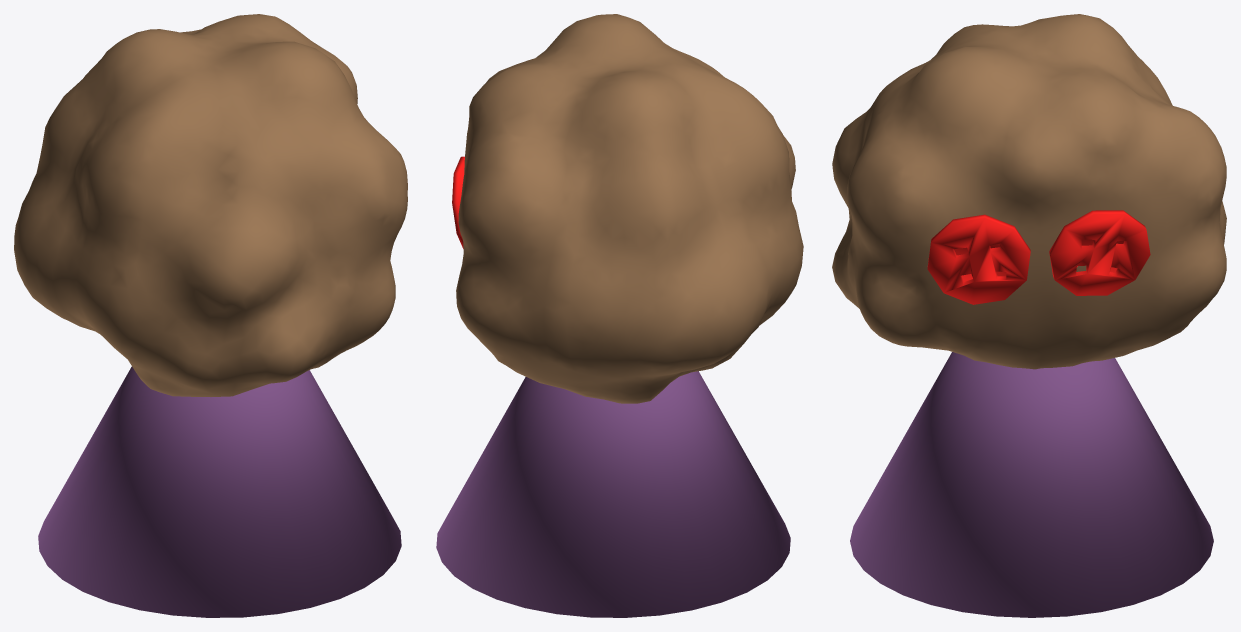
Rendered from pecinha blend.glb.
The picture shows the model from 3 angles, left to right: view 1: azimuth 30°, elevation 25°; view 2: azimuth 150°, elevation 25°; view 3: azimuth 270°, elevation 25°; orthographic projection. The views are drawn at different scales.
Visible parts, largest first — view 1: Cone.003; view 2: Cone.003; view 3: Cone.003.
Boxes of the visible parts, x1,y1,x2,y2 form: Cone.003: (14,14,407,617); Cone.003: (436,14,803,617); Cone.003: (832,14,1226,617).
Size of the model in its own units: 1.46 by 2.16 by 1.53.
